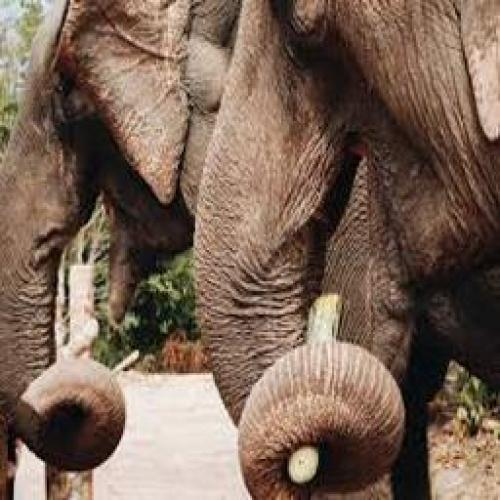african_elephant-endangered: (191, 0, 499, 498), (4, 0, 242, 500)
